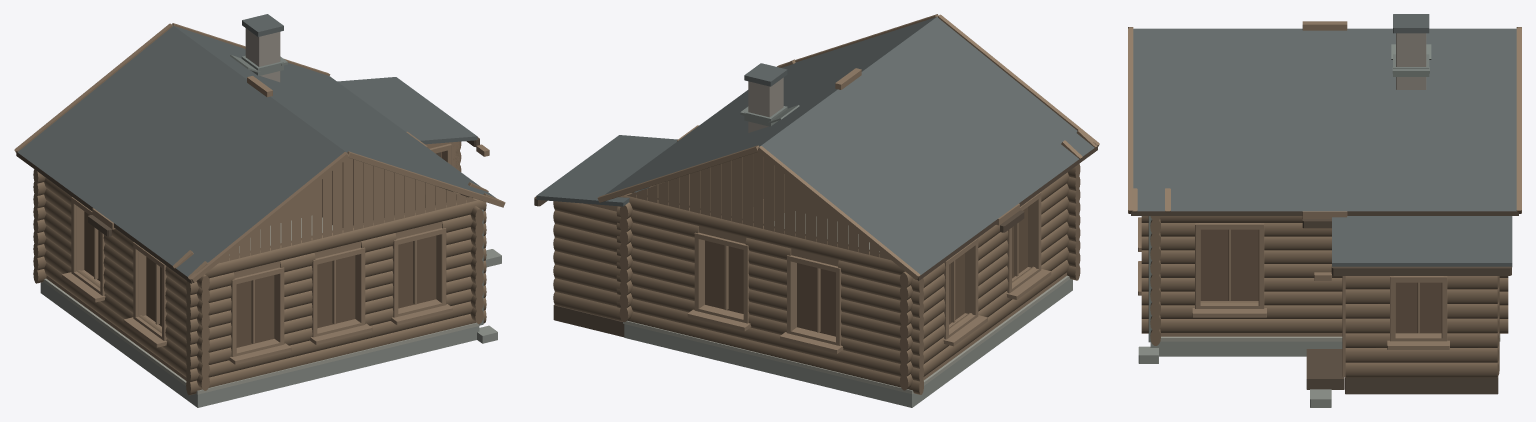
File: variant-a-opaque-for-retexture.glb
3 views of the same model, side by side, from view 1: azimuth 30°, elevation 25°; view 2: azimuth 150°, elevation 25°; view 3: azimuth 270°, elevation 25° (orthographic). The views are drawn at different scales.
Parts seen in each view (by area): view 1: VariantA_TimberGable_Dwelling_Roof_LOD0, VariantA_TimberGable_Dwelling_Street_LogCrown, VariantA_TimberGable_Dwelling_Front_BoardedGable_LOD0, VariantA_TimberGable_Dwelling_Left_LogCrown, VariantA_TimberGable_Dwelling_Foundation_LOD0, VariantA_TimberGable_Dwelling_SeniRoof_LOD0, VariantA_TimberGable_Dwelling_Street_Wall_LOD0, VariantA_TimberGable_Dwelling_FootingCap_LOD0, VariantA_TimberGable_Dwelling_Street_Window1_Recess_LOD0, VariantA_TimberGable_Dwelling_Street_Window0_Recess_LOD0, VariantA_TimberGable_Dwelling_Street_Window2_Recess_LOD0, VariantA_TimberGable_Dwelling_Left_Wall_LOD0 (+22 smaller); view 2: VariantA_TimberGable_Dwelling_Roof_LOD0, VariantA_TimberGable_Dwelling_Rear_LogCrown, VariantA_TimberGable_Dwelling_Back_BoardedGable_LOD0, VariantA_TimberGable_Dwelling_Left_LogCrown, VariantA_TimberGable_Dwelling_SeniRear_LogCrown, VariantA_TimberGable_Dwelling_Foundation_LOD0, VariantA_TimberGable_Dwelling_SeniRoof_LOD0, VariantA_TimberGable_Dwelling_FootingCap_LOD0, VariantA_TimberGable_Dwelling_Rear_Window0_Recess_LOD0, VariantA_TimberGable_Dwelling_Rear_Window1_Recess_LOD0, VariantA_TimberGable_Dwelling_Left_Wall_LOD0, VariantA_TimberGable_Dwelling_Rear_Wall_LOD0 (+15 smaller); view 3: VariantA_TimberGable_Dwelling_Roof_LOD0, VariantA_TimberGable_Dwelling_Right_LogCrown, VariantA_TimberGable_Dwelling_SeniOuter_LogCrown, VariantA_TimberGable_Dwelling_SeniRoof_LOD0, VariantA_TimberGable_Dwelling_Right_Window0_Recess_LOD0, VariantA_TimberGable_Dwelling_SeniFooting_LOD0, VariantA_TimberGable_Dwelling_Foundation_LOD0, VariantA_TimberGable_Dwelling_SeniOuter_Window0_Recess_LOD0, VariantA_TimberGable_Dwelling_SeniTrough_LOD0, VariantA_TimberGable_Dwelling_SeniStep_LOD0, VariantA_TimberGable_Dwelling_ChimneyStack_LOD0, VariantA_TimberGable_Dwelling_Street_LogCrown (+19 smaller).
Boxes of the visible parts, <box> form: VariantA_TimberGable_Dwelling_Roof_LOD0: <box>16,25,503,283</box>; VariantA_TimberGable_Dwelling_Street_LogCrown: <box>186,198,486,395</box>; VariantA_TimberGable_Dwelling_Front_BoardedGable_LOD0: <box>218,158,476,263</box>; VariantA_TimberGable_Dwelling_Left_LogCrown: <box>44,178,209,390</box>; VariantA_TimberGable_Dwelling_Foundation_LOD0: <box>40,282,479,407</box>; VariantA_TimberGable_Dwelling_SeniRoof_LOD0: <box>337,77,477,144</box>; VariantA_TimberGable_Dwelling_Street_Wall_LOD0: <box>229,197,471,351</box>; VariantA_TimberGable_Dwelling_FootingCap_LOD0: <box>43,215,479,394</box>; VariantA_TimberGable_Dwelling_Street_Window1_Recess_LOD0: <box>317,255,355,328</box>; VariantA_TimberGable_Dwelling_Street_Window0_Recess_LOD0: <box>236,275,274,347</box>; VariantA_TimberGable_Dwelling_Street_Window2_Recess_LOD0: <box>398,235,436,308</box>; VariantA_TimberGable_Dwelling_Left_Wall_LOD0: <box>46,206,186,380</box>; VariantA_TimberGable_Dwelling_Roof_LOD0: <box>599,16,1097,280</box>; VariantA_TimberGable_Dwelling_Rear_LogCrown: <box>616,193,923,394</box>; VariantA_TimberGable_Dwelling_Back_BoardedGable_LOD0: <box>627,152,890,259</box>; VariantA_TimberGable_Dwelling_Left_LogCrown: <box>899,172,1069,390</box>; VariantA_TimberGable_Dwelling_SeniRear_LogCrown: <box>554,201,621,320</box>; VariantA_TimberGable_Dwelling_Foundation_LOD0: <box>624,279,1072,407</box>; VariantA_TimberGable_Dwelling_SeniRoof_LOD0: <box>536,135,677,206</box>; VariantA_TimberGable_Dwelling_FootingCap_LOD0: <box>623,211,1069,394</box>; VariantA_TimberGable_Dwelling_Rear_Window0_Recess_LOD0: <box>705,240,743,313</box>; VariantA_TimberGable_Dwelling_Rear_Window1_Recess_LOD0: <box>797,263,835,336</box>; VariantA_TimberGable_Dwelling_Left_Wall_LOD0: <box>923,201,1066,380</box>; VariantA_TimberGable_Dwelling_Rear_Wall_LOD0: <box>632,192,879,340</box>; VariantA_TimberGable_Dwelling_Roof_LOD0: <box>1131,28,1518,215</box>; VariantA_TimberGable_Dwelling_Right_LogCrown: <box>1141,216,1508,333</box>; VariantA_TimberGable_Dwelling_SeniOuter_LogCrown: <box>1345,276,1497,377</box>; VariantA_TimberGable_Dwelling_SeniRoof_LOD0: <box>1332,216,1512,266</box>; VariantA_TimberGable_Dwelling_Right_Window0_Recess_LOD0: <box>1200,229,1258,300</box>; VariantA_TimberGable_Dwelling_SeniFooting_LOD0: <box>1345,372,1498,394</box>; VariantA_TimberGable_Dwelling_Foundation_LOD0: <box>1150,341,1342,356</box>; VariantA_TimberGable_Dwelling_SeniOuter_Window0_Recess_LOD0: <box>1395,282,1441,333</box>; VariantA_TimberGable_Dwelling_SeniTrough_LOD0: <box>1331,266,1511,275</box>; VariantA_TimberGable_Dwelling_SeniStep_LOD0: <box>1306,349,1344,389</box>; VariantA_TimberGable_Dwelling_ChimneyStack_LOD0: <box>1396,33,1426,89</box>; VariantA_TimberGable_Dwelling_Street_LogCrown: <box>1150,216,1160,345</box>.
Bounding box in the file's own units: 8.56 × 5.23 × 6.62.
